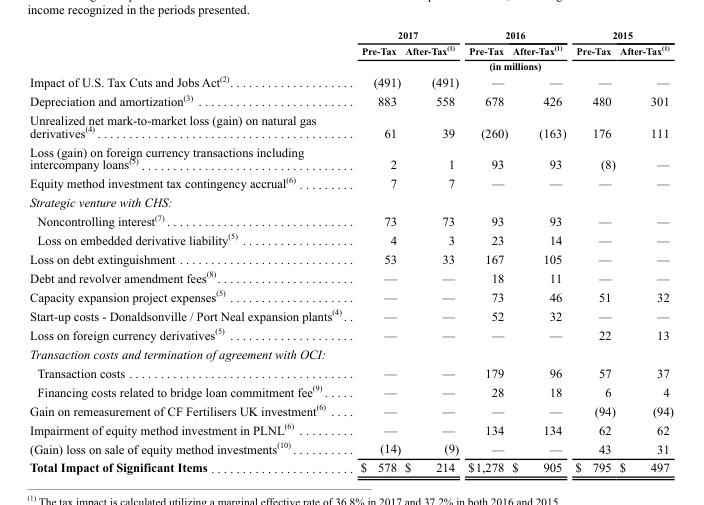table: (29, 28, 672, 474)
table column: (29, 28, 350, 474), (509, 28, 570, 474), (402, 28, 462, 474), (616, 28, 672, 474), (350, 28, 402, 474), (462, 28, 509, 474), (570, 28, 616, 474)
table column header: (29, 28, 672, 72)
table projected row header: (29, 344, 672, 363), (29, 192, 672, 210)
table row: (29, 110, 672, 142), (29, 142, 672, 172), (29, 90, 672, 110), (29, 172, 672, 192), (29, 229, 672, 249), (29, 324, 672, 344), (29, 437, 672, 457), (29, 210, 672, 229), (29, 267, 672, 286), (29, 286, 672, 305), (29, 305, 672, 324), (29, 344, 672, 363), (29, 381, 672, 400), (29, 418, 672, 437), (29, 72, 672, 90), (29, 192, 672, 210), (29, 249, 672, 267), (29, 363, 672, 381), (29, 400, 672, 418), (29, 41, 672, 58), (29, 457, 672, 474), (29, 58, 672, 72), (29, 28, 672, 41)
table spanning cell: (350, 58, 672, 72), (350, 28, 462, 41), (462, 28, 570, 41), (570, 28, 672, 41)
